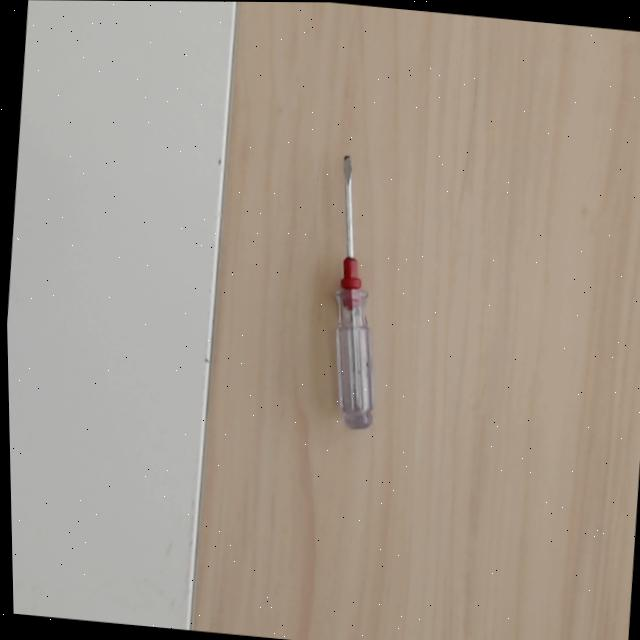Obeng-Kecil: (325, 154, 374, 430)
